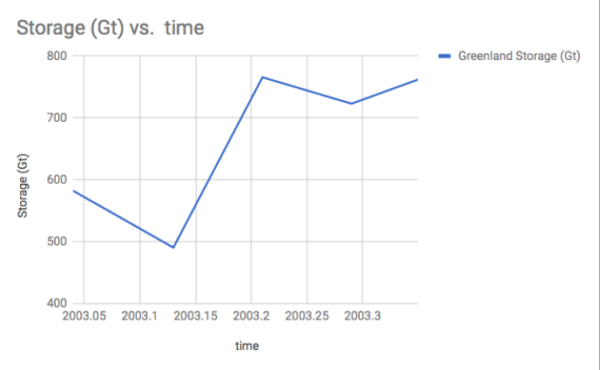S1_AxisNotZero: (8, 45, 435, 337)
